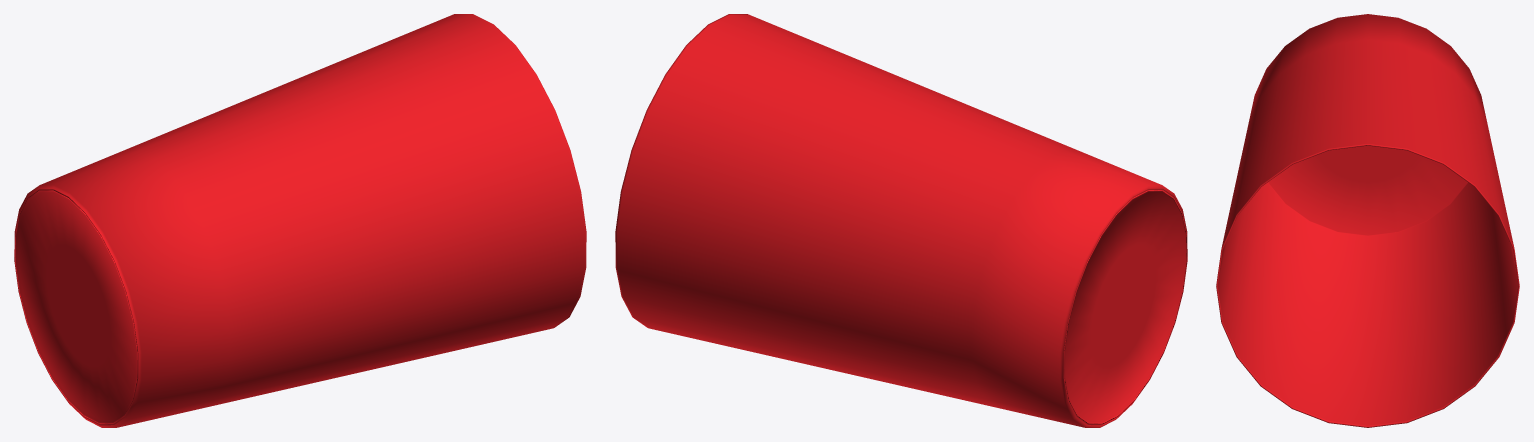
Rendered from tapaless.obj.
3 renders of one model, left to right at view 1: azimuth 30°, elevation 25°; view 2: azimuth 150°, elevation 25°; view 3: azimuth 270°, elevation 25°, orthographic. The views are drawn at different scales.
Parts seen in each view (by area): view 1: tapaless:Cylinder01Fbx_Root; view 2: tapaless:Cylinder01Fbx_Root; view 3: tapaless:Cylinder01Fbx_Root.
Part boxes in pixels (x1,y1,x2,y2): tapaless:Cylinder01Fbx_Root: (14,14,586,427); tapaless:Cylinder01Fbx_Root: (615,14,1187,427); tapaless:Cylinder01Fbx_Root: (1216,14,1519,427).
Size of the model in its own units: 0.7898 by 0.5049 by 0.5062.
Materials: 1 (1 with a texture image).
